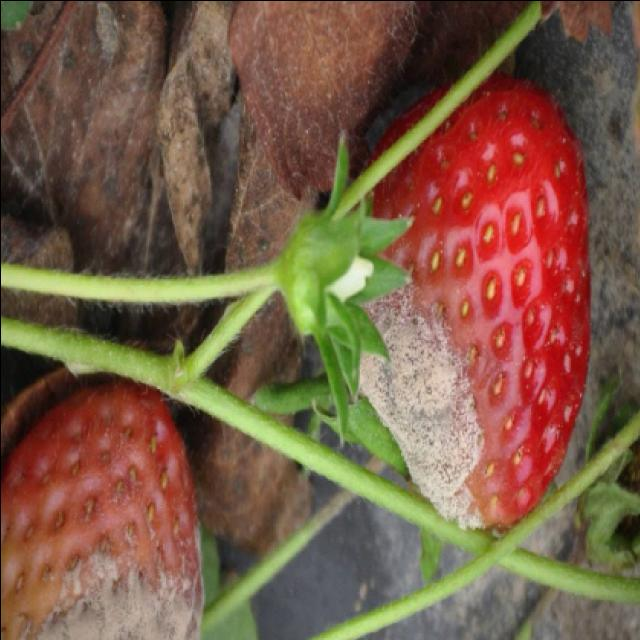Gray Mold: (358, 264, 496, 530)
